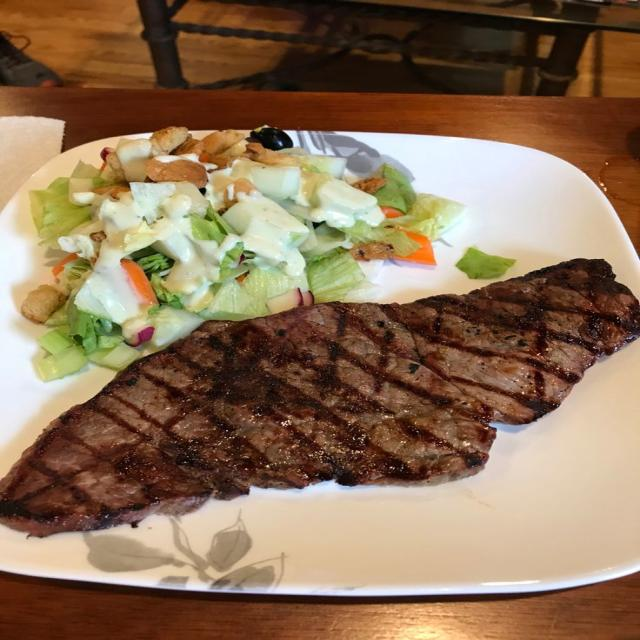beef steak: (0, 258, 639, 536)
lettuce: (30, 178, 90, 245), (387, 194, 466, 241), (307, 250, 364, 302), (343, 221, 419, 256), (374, 164, 416, 212), (456, 248, 515, 279), (150, 273, 183, 308)
